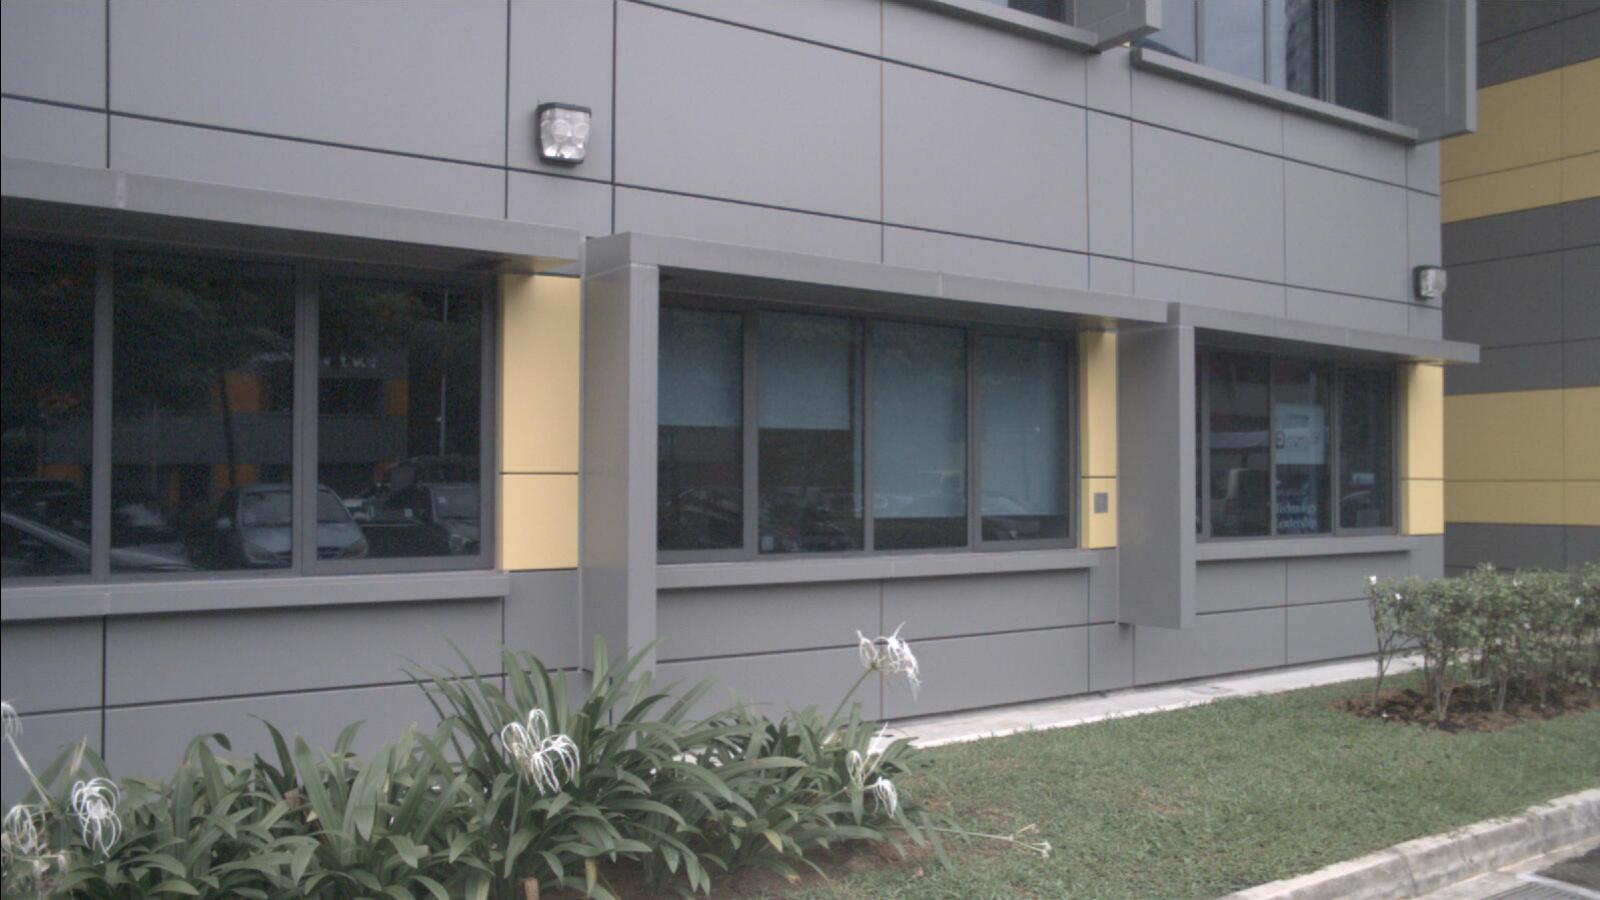human.pedestrian.adult-pedestrian.moving: (798, 492, 830, 580), (659, 492, 685, 582)
